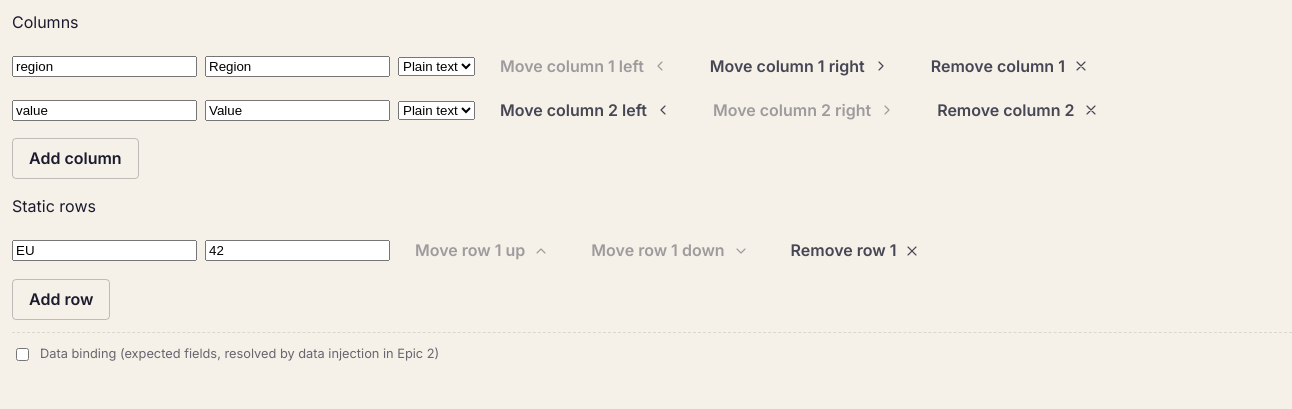
Scenario: TableBlockEditor duplicate column keys (data-loss guard) › surfaces the duplicate-key collision as an inline alert
This screenshot has width=1292, height=409.
Replace the text in the field named "Column 2 key" with "region": x=104, y=110 [12, 100, 197, 121]
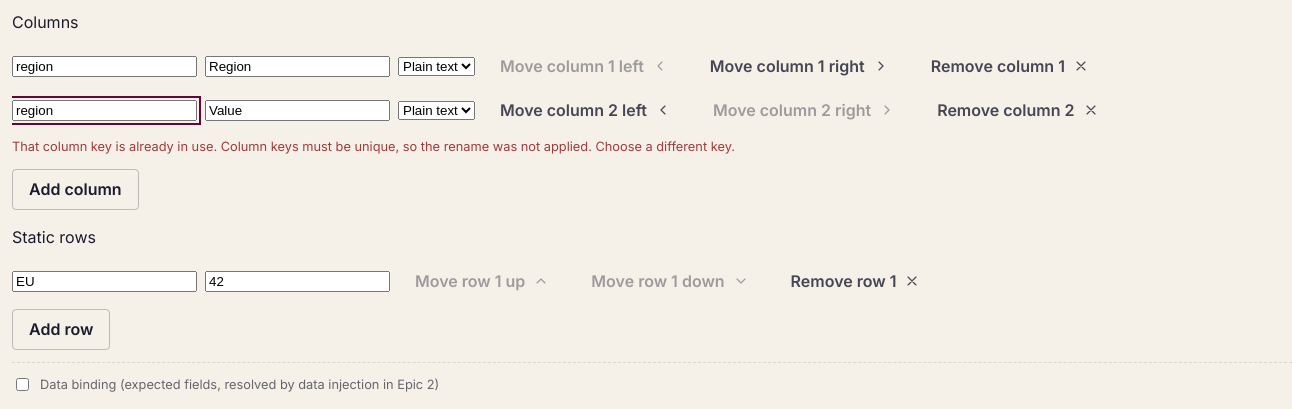
Now the message is shown, box [12, 139, 735, 154]
